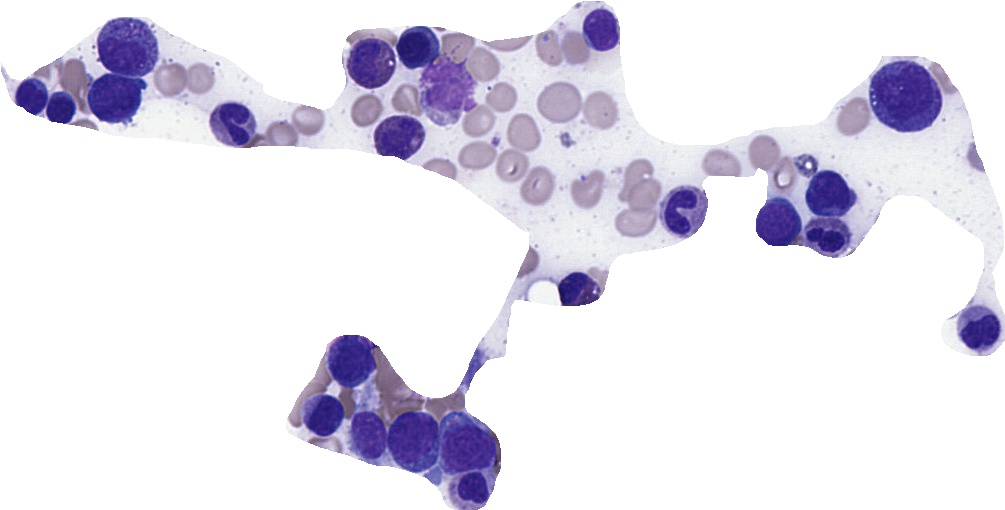objectness: (952, 301, 1002, 351), (657, 185, 707, 235), (800, 209, 850, 259), (208, 99, 258, 149), (375, 112, 425, 162), (553, 265, 603, 315), (345, 34, 395, 84), (754, 198, 804, 248), (390, 414, 440, 464), (90, 72, 140, 122), (436, 414, 486, 464), (342, 408, 392, 458), (322, 336, 372, 386), (424, 60, 474, 110), (390, 20, 440, 70), (297, 389, 347, 439), (802, 165, 852, 215), (576, 5, 626, 55), (6, 70, 56, 120), (36, 79, 86, 129), (103, 18, 153, 68), (881, 67, 931, 117), (449, 462, 499, 510)
